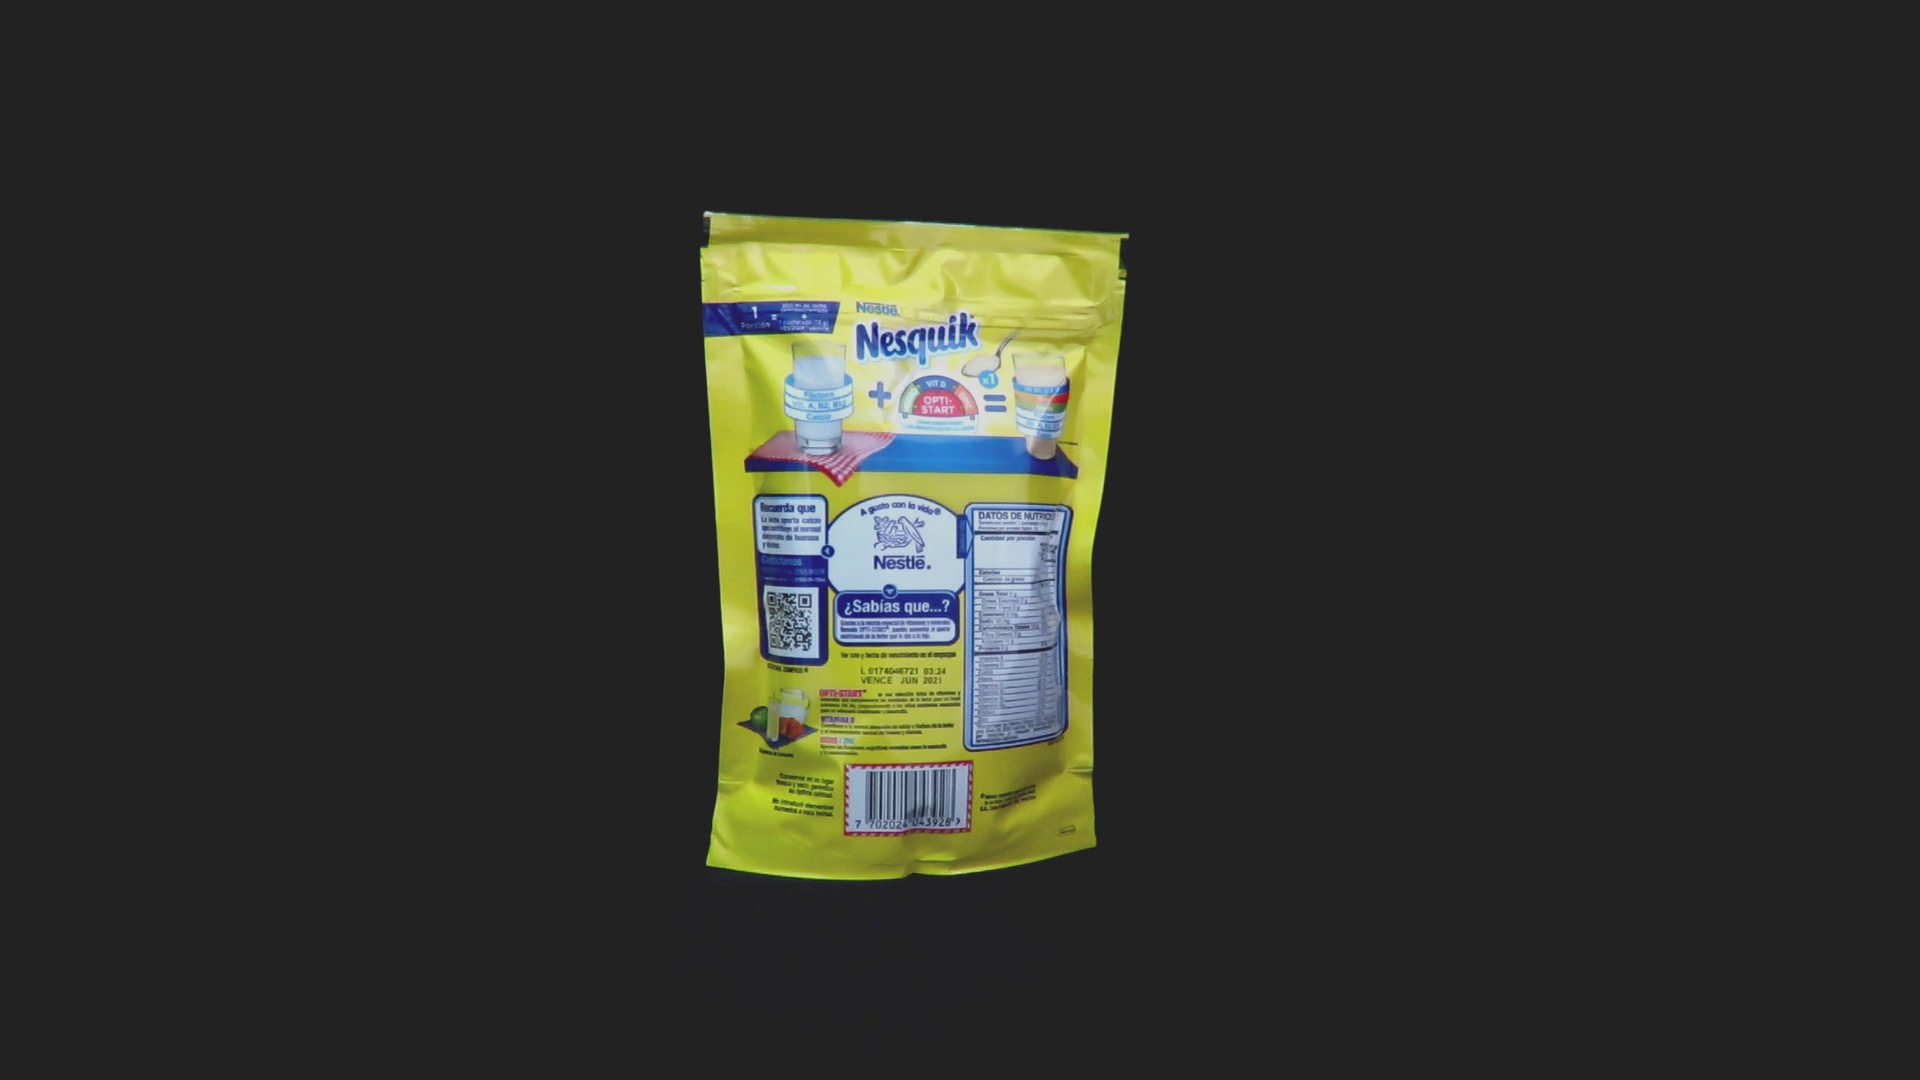COL0170306DYP20000: (695, 206, 1135, 886)
